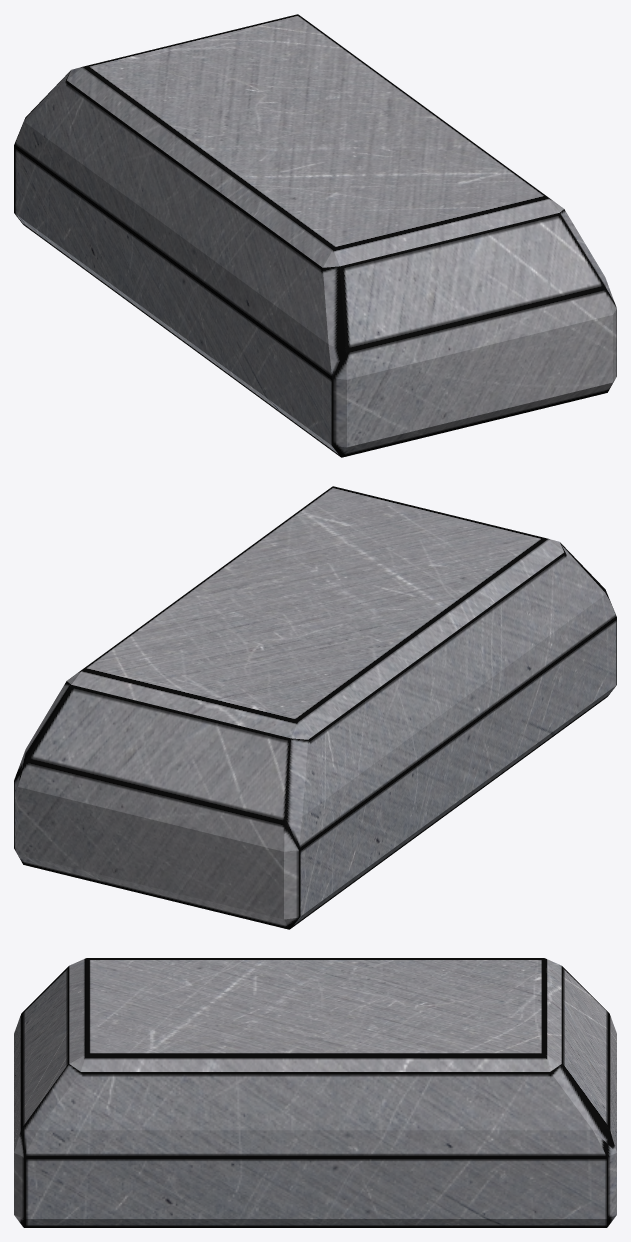
Rendered from Hull.FBX.
3 renders of one model, top to bottom at view 1: azimuth 30°, elevation 25°; view 2: azimuth 150°, elevation 25°; view 3: azimuth 270°, elevation 25°, orthographic. The views are drawn at different scales.
Visible parts, largest first — view 1: Box01; view 2: Box01; view 3: Box01.
Boxes of the visible parts, box(x1,y1,x2,y2) form: Box01: box(14, 14, 616, 457); Box01: box(14, 486, 616, 929); Box01: box(14, 958, 616, 1227).
Bounding box in the file's own units: 31.69 × 18.83 × 63.39.
